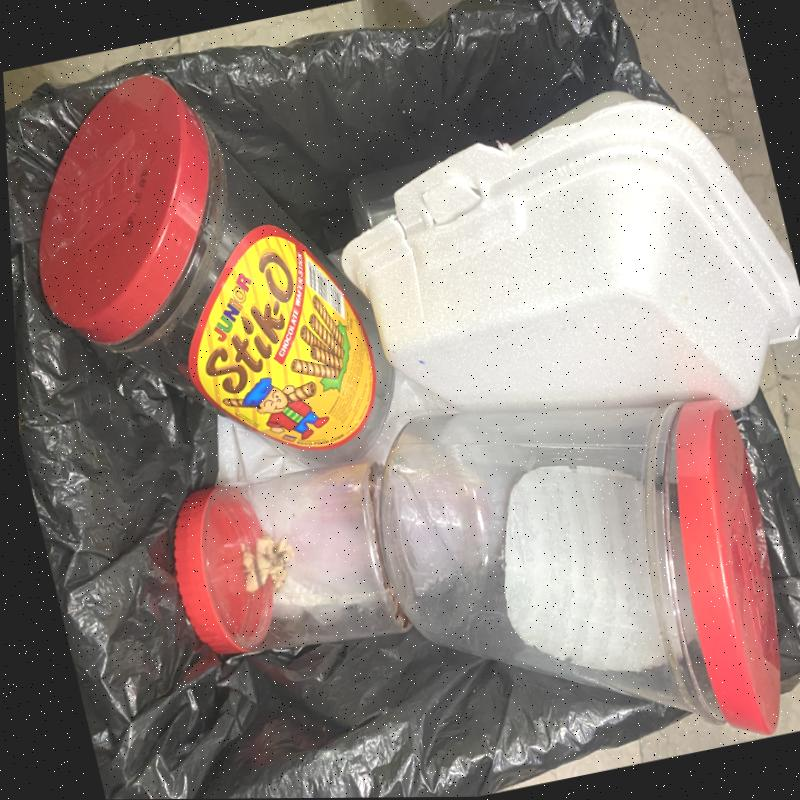plastic container: (39, 73, 395, 464), (378, 397, 783, 734), (174, 457, 417, 659)
styrofoam containers: (342, 88, 800, 410)
